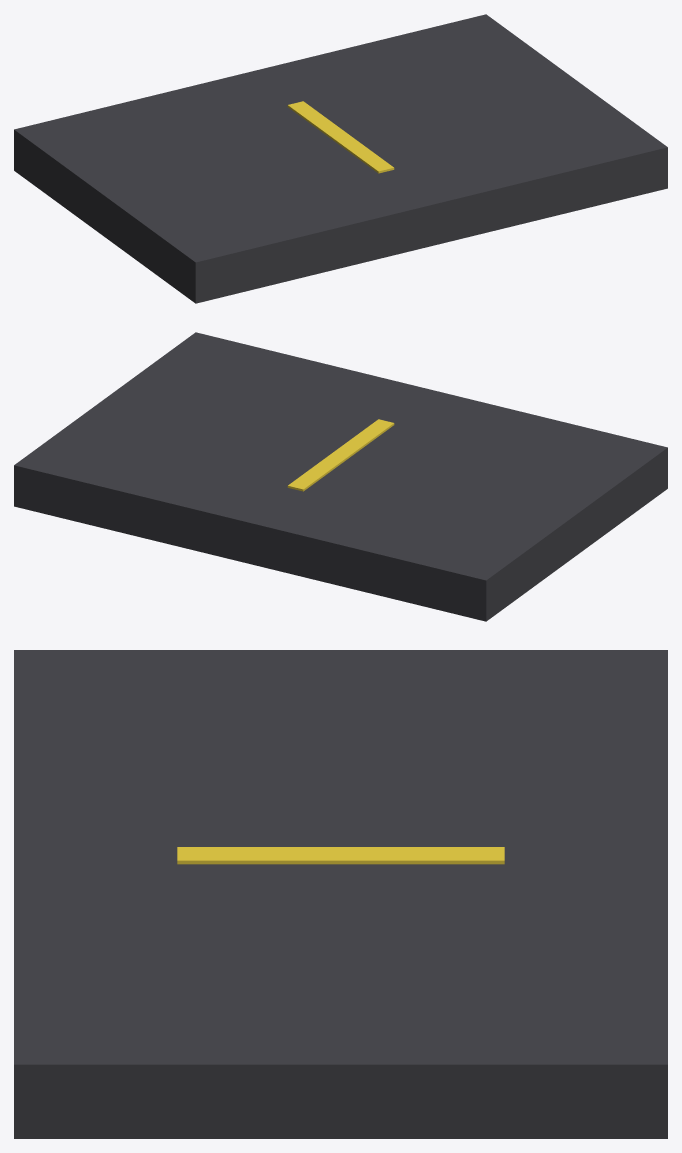
File: road.glb
3 renders of one model, top to bottom at view 1: azimuth 30°, elevation 25°; view 2: azimuth 150°, elevation 25°; view 3: azimuth 270°, elevation 25°, orthographic. The views are drawn at different scales.
Visible parts, largest first — view 1: road; view 2: road; view 3: road.
Part boxes in pixels (x1=…): road: x1=14, y1=14, x2=667, y2=303; road: x1=14, y1=332, x2=667, y2=621; road: x1=14, y1=650, x2=667, y2=1138.
Bounding box in the file's own units: 12 × 1.05 × 8.
